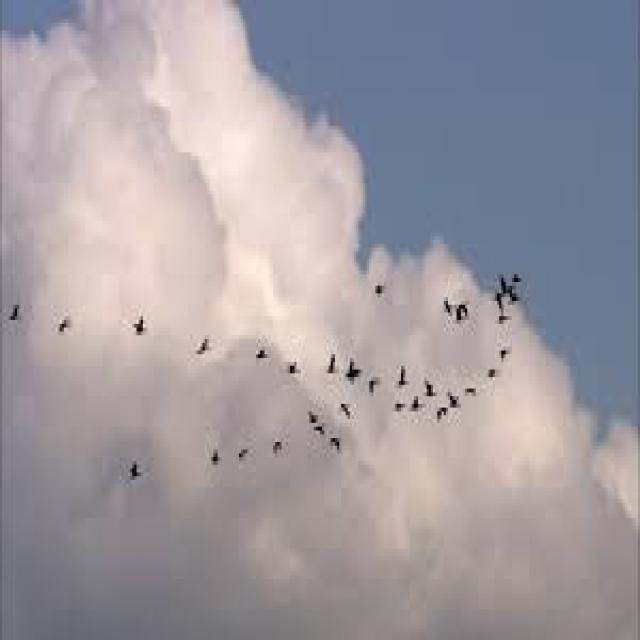bird: (4, 290, 30, 358), (126, 294, 152, 351), (278, 344, 310, 390), (190, 328, 222, 370), (52, 302, 78, 352), (434, 278, 456, 328), (202, 436, 226, 474), (337, 352, 363, 387), (237, 428, 256, 471), (318, 348, 344, 379), (405, 386, 427, 422), (362, 368, 385, 402), (430, 400, 453, 434), (334, 392, 356, 427), (443, 381, 462, 419), (506, 291, 528, 322), (421, 366, 443, 396), (394, 354, 411, 392), (484, 356, 499, 398), (456, 292, 472, 330), (463, 381, 482, 412), (127, 456, 142, 494), (255, 339, 270, 377), (269, 432, 284, 467), (329, 432, 348, 459), (303, 394, 320, 424), (494, 263, 507, 301), (488, 286, 504, 316), (392, 392, 406, 423), (496, 341, 511, 364), (316, 419, 328, 442), (492, 312, 514, 324), (372, 274, 383, 297), (515, 258, 522, 294)
